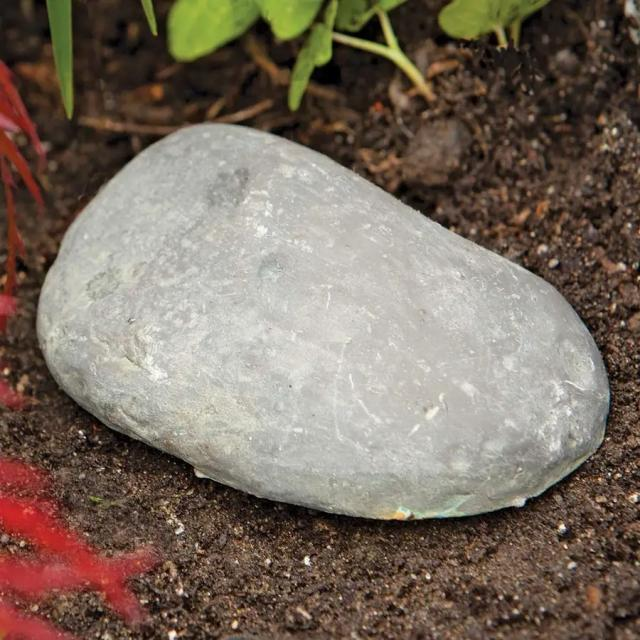non-organic waste: (38, 121, 613, 521)
